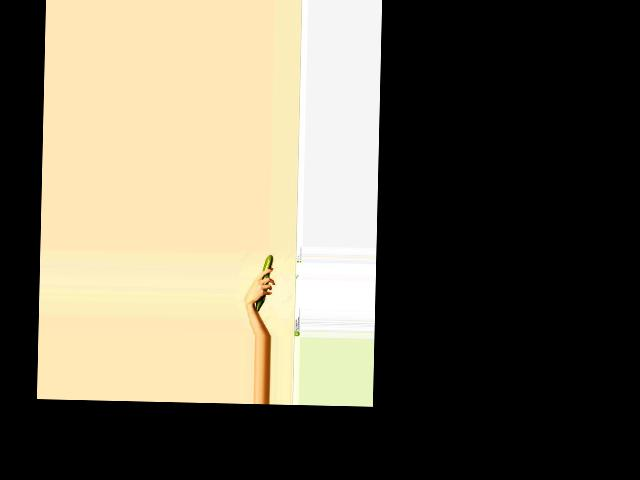cucumber: (256, 254, 273, 312)
